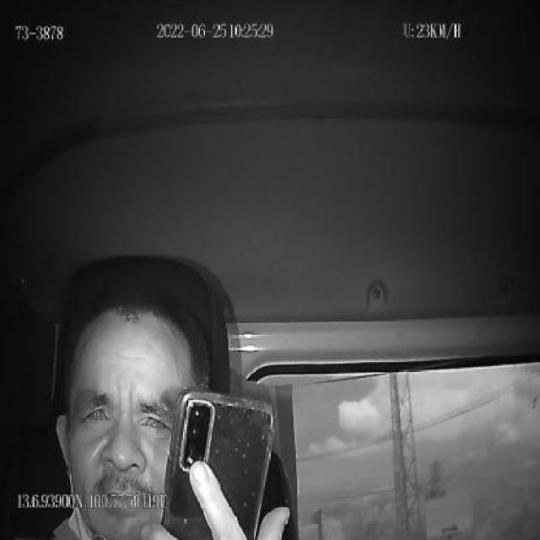phone: (161, 388, 278, 540)
